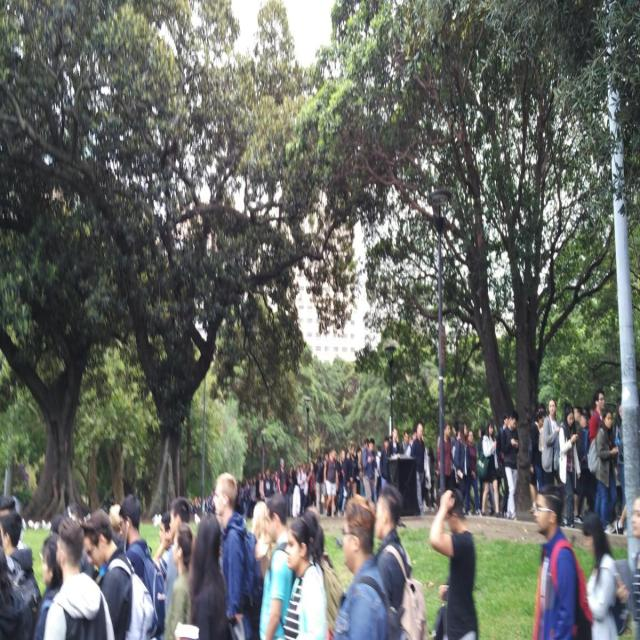body: (531, 481, 593, 640), (42, 516, 116, 640), (330, 493, 392, 640), (428, 487, 480, 640), (79, 507, 135, 640), (211, 470, 255, 639), (117, 495, 167, 640), (374, 480, 413, 639), (581, 511, 629, 640), (281, 516, 329, 639), (258, 491, 295, 640), (189, 511, 229, 640), (160, 523, 198, 640), (0, 512, 34, 640), (587, 407, 620, 538), (613, 492, 640, 640), (305, 506, 340, 612), (0, 530, 31, 639), (33, 530, 63, 640), (163, 496, 190, 617), (558, 404, 582, 529), (477, 417, 502, 521), (453, 419, 476, 518), (502, 408, 520, 522), (615, 403, 629, 536), (540, 396, 561, 476), (464, 428, 482, 516), (409, 422, 426, 515), (495, 412, 509, 518), (530, 409, 547, 494), (436, 420, 455, 493), (235, 470, 264, 512), (362, 436, 378, 511), (323, 444, 339, 518), (50, 494, 85, 527), (588, 389, 606, 449), (251, 501, 269, 554), (423, 437, 436, 504), (337, 447, 350, 513), (574, 400, 589, 453), (357, 437, 370, 498), (314, 446, 325, 516), (346, 443, 359, 499), (188, 490, 215, 514), (297, 462, 308, 518), (380, 435, 390, 492), (276, 456, 290, 496), (108, 498, 124, 531), (306, 461, 317, 508), (156, 513, 171, 547), (287, 462, 296, 518), (353, 440, 363, 484), (388, 425, 402, 455), (449, 416, 462, 448), (400, 429, 414, 456), (0, 494, 17, 513), (375, 444, 383, 480), (271, 467, 278, 495), (534, 398, 547, 412), (476, 425, 483, 450), (295, 459, 303, 476), (263, 466, 271, 480), (334, 448, 339, 468), (323, 452, 329, 468)
